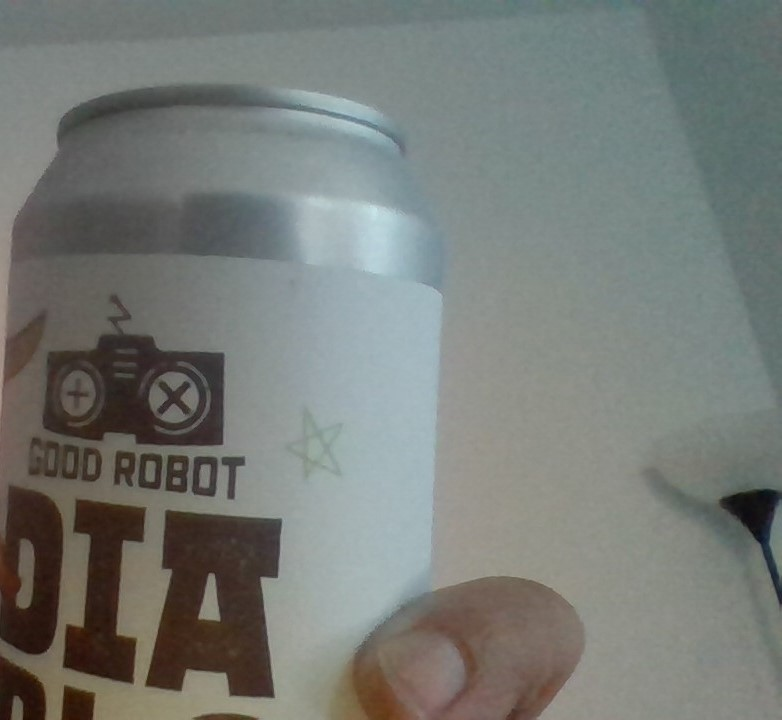Good Robot: (42, 290, 239, 447)
